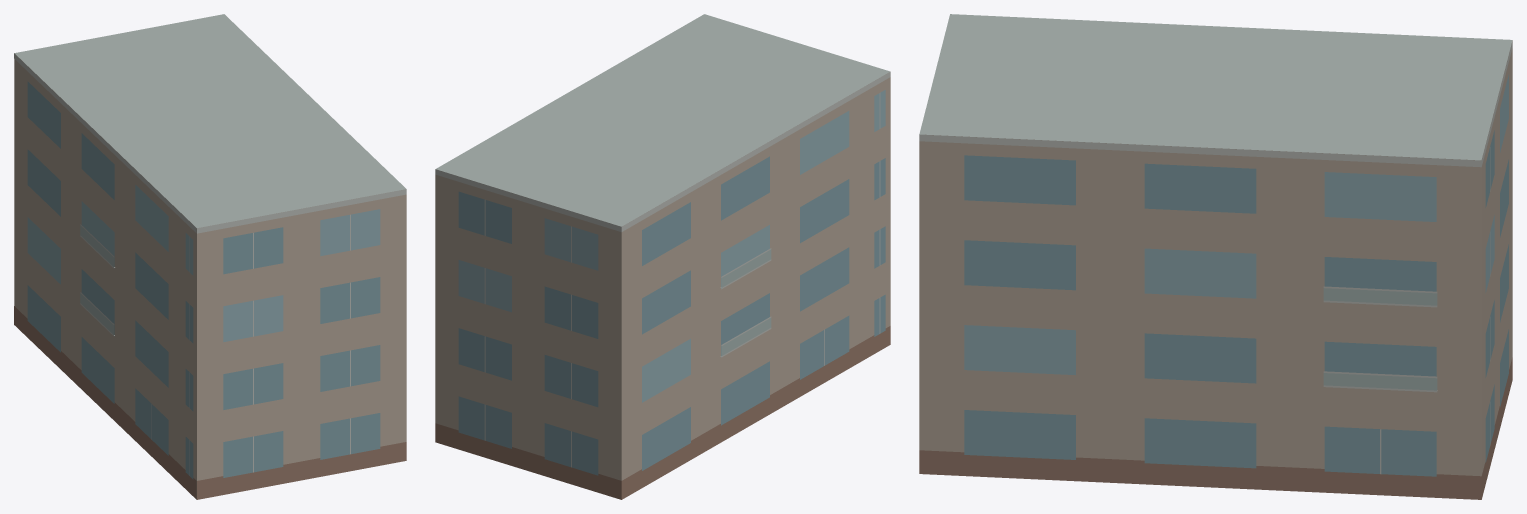
The model's file is residential-b0332ccb-0c7c-4510-aee0-75a4e562bdb1.glb.
3 views of the same model, side by side, from view 1: azimuth 30°, elevation 25°; view 2: azimuth 150°, elevation 25°; view 3: azimuth 270°, elevation 25° (orthographic). The views are drawn at different scales.
Parts seen in each view (by area): view 1: residential-b0332ccb-0c7c-4510-aee0-75a4e562bdb1.tmp; view 2: residential-b0332ccb-0c7c-4510-aee0-75a4e562bdb1.tmp; view 3: residential-b0332ccb-0c7c-4510-aee0-75a4e562bdb1.tmp.
Part boxes in pixels (left/top/right/bottom): residential-b0332ccb-0c7c-4510-aee0-75a4e562bdb1.tmp: left=14, top=14, right=406, bottom=499; residential-b0332ccb-0c7c-4510-aee0-75a4e562bdb1.tmp: left=435, top=14, right=890, bottom=499; residential-b0332ccb-0c7c-4510-aee0-75a4e562bdb1.tmp: left=919, top=14, right=1512, bottom=499.
Bounding box in the file's own units: 11.3 × 12.2 × 19.34.
